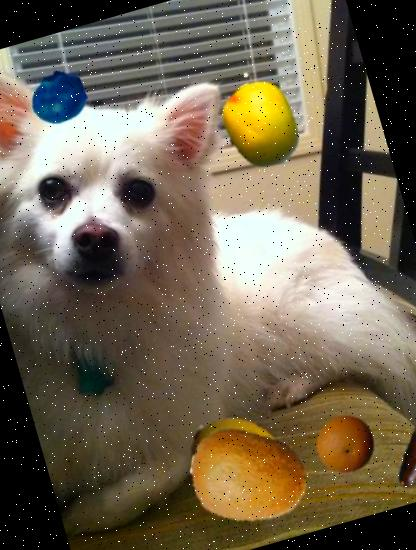Eggplant: (371, 406, 416, 500)
Huckleberry: (24, 62, 92, 131)
Kiwi: (176, 402, 322, 548)
Lemon: (172, 394, 307, 530)
Orange: (309, 408, 383, 482)
Pomelo: (206, 70, 315, 179)
